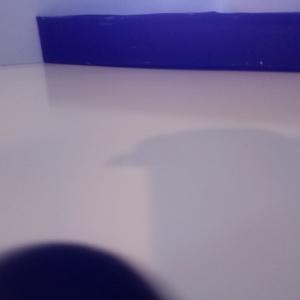zone: (36, 11, 300, 72)
